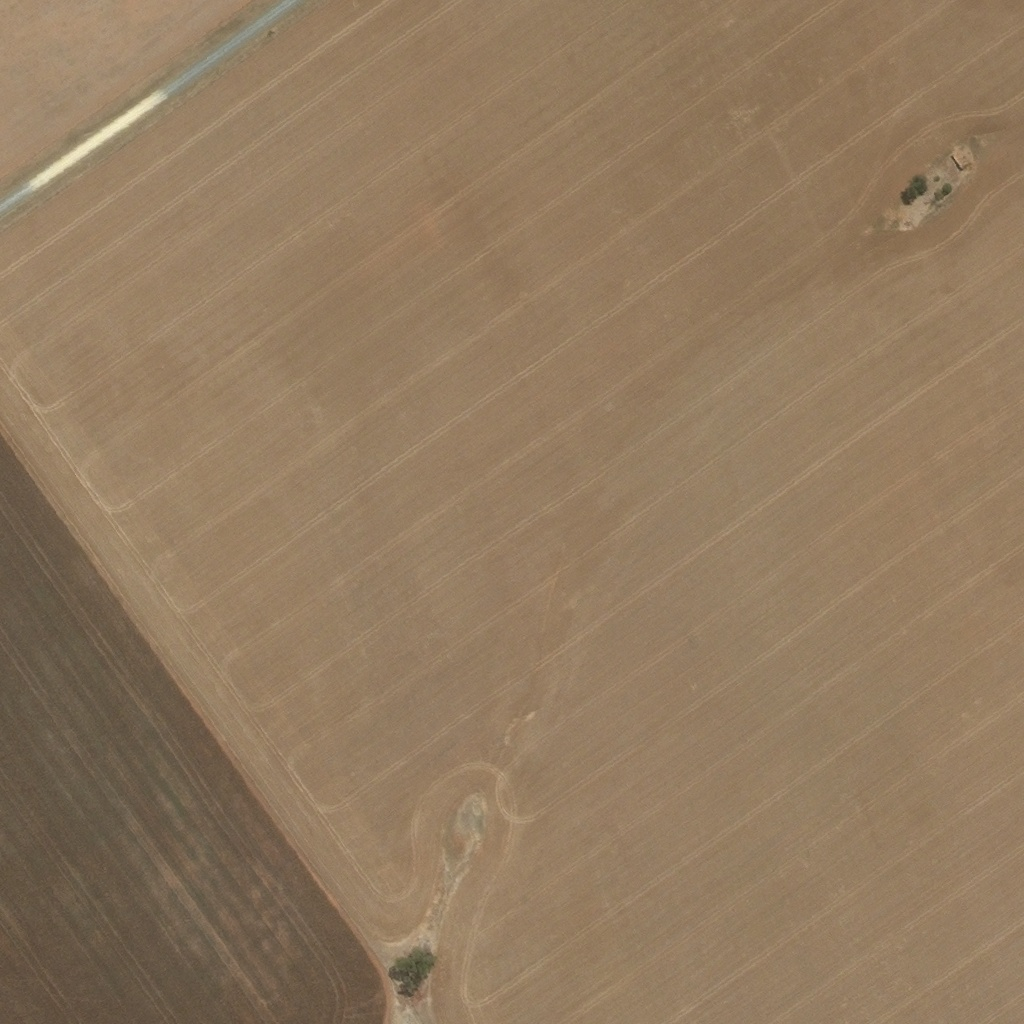3 destroyed: (951, 151, 970, 172)
